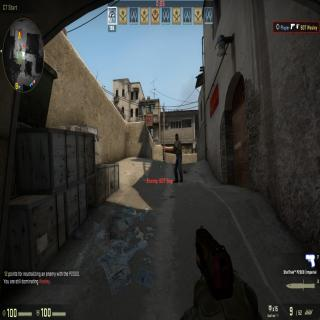T-Body: (173, 132, 183, 183)
T-Head: (175, 132, 179, 142)
